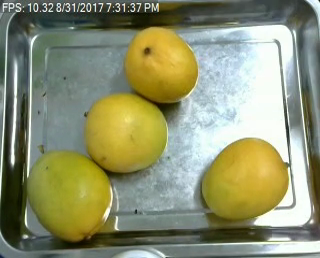Mango: (26, 151, 111, 240), (199, 137, 288, 219), (86, 94, 167, 171), (126, 28, 196, 103)
